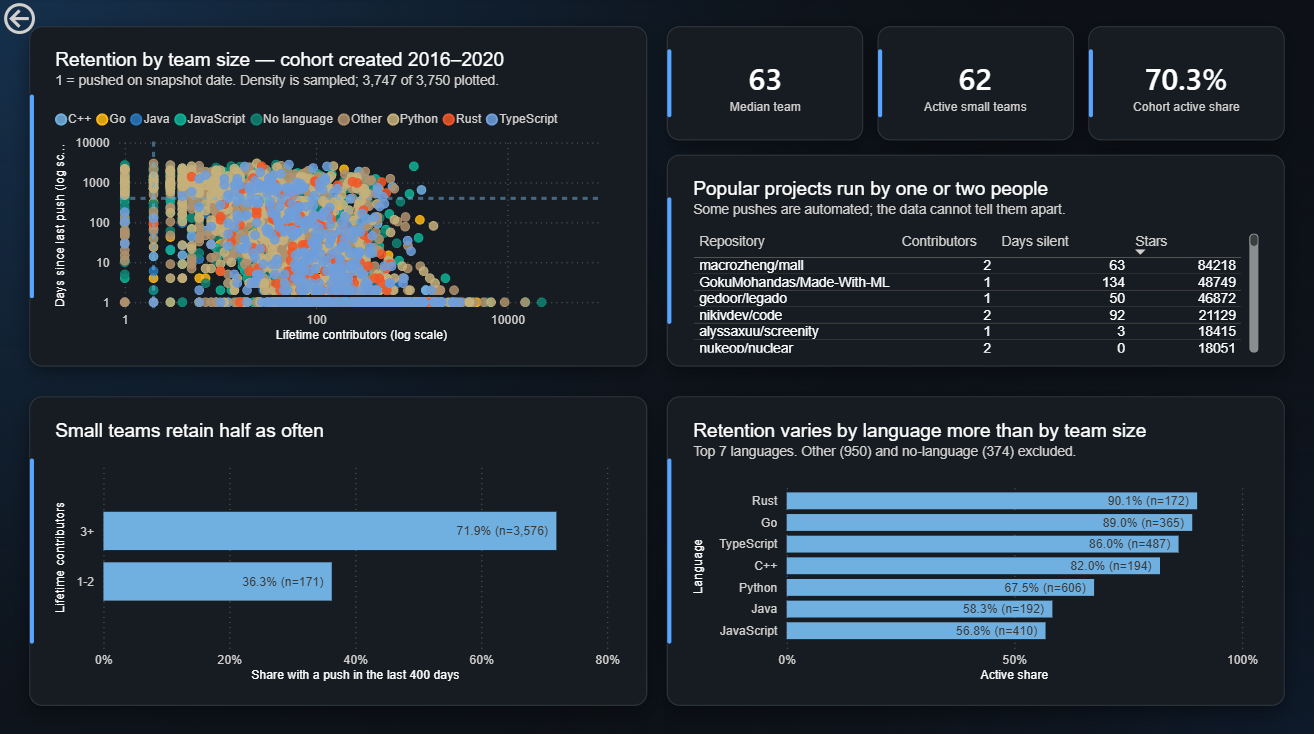

The page's visual inventory and layout, read from the dashboard file:
{"tool":"powerbi","page":{"name":"Retention","canvas":[1280,720],"ordinal":1},"visuals":[{"type":"actionButton","box":[0,0,100,40],"z":0},{"type":"scatterChart","title":"Retention by team size — cohort created 2016–2020","fields":{"Category":["repositories.full_name"],"Series":["repositories.language_group"],"X":["Sum(repositories.contributors)"],"Y":["Sum(repositories.days_since_push_log)"]},"box":[50,50,560,290],"z":1000},{"type":"clusteredBarChart","title":"Small teams retain half as often","fields":{"Category":["repositories.team_group"],"Y":["repositories.Active share"]},"box":[50,410,560,260],"z":2000},{"type":"clusteredBarChart","title":"Retention varies by language more than by team size","fields":{"Category":["repositories.language_group"],"Y":["repositories.Active share"]},"box":[670,410,560,260],"z":3000},{"type":"cardVisual","fields":{"Data":["repositories.Cohort active share"]},"box":[1070,40,170,90],"z":4000},{"type":"cardVisual","fields":{"Data":["repositories.Median team"]},"box":[660,40,170,90],"z":5000},{"type":"cardVisual","fields":{"Data":["repositories.Active small teams"]},"box":[865,40,170,90],"z":6000},{"type":"tableEx","title":"Popular projects run by one or two people","fields":{"Values":["repositories.full_name","repositories.contributors","repositories.days_since_push","repositories.stars"]},"box":[670,175,560,175],"z":7000}]}

Visuals, with their boxes in screenshot pixels (x1, y1, x2, y2), scaled from the page's 1280x720 canvas onto the 1314x734 screenshot:
actionButton: <bbox>0, 0, 103, 41</bbox>
"Retention by team size — cohort created 2016–2020" scatterChart: <bbox>51, 51, 626, 347</bbox>
"Small teams retain half as often" clusteredBarChart: <bbox>51, 418, 626, 683</bbox>
"Retention varies by language more than by team size" clusteredBarChart: <bbox>688, 418, 1263, 683</bbox>
cardVisual - repositories.Cohort active share: <bbox>1098, 41, 1273, 133</bbox>
cardVisual - repositories.Median team: <bbox>678, 41, 852, 133</bbox>
cardVisual - repositories.Active small teams: <bbox>888, 41, 1062, 133</bbox>
"Popular projects run by one or two people" tableEx: <bbox>688, 178, 1263, 357</bbox>
